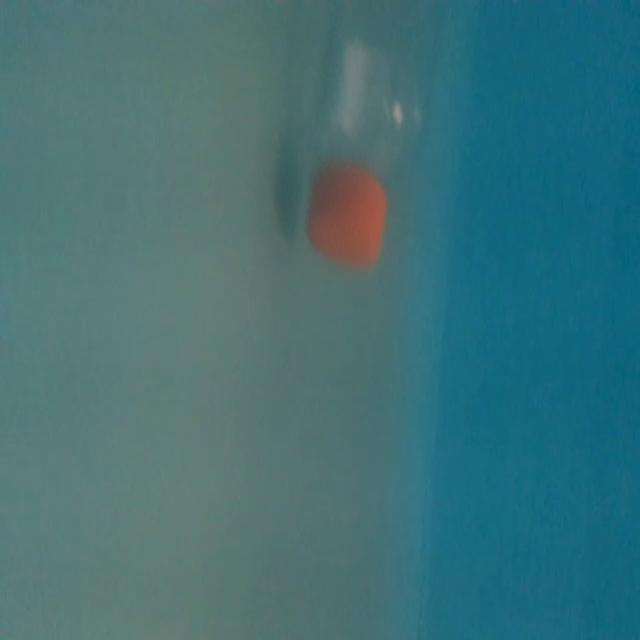plastic bottle: (301, 0, 448, 272)
